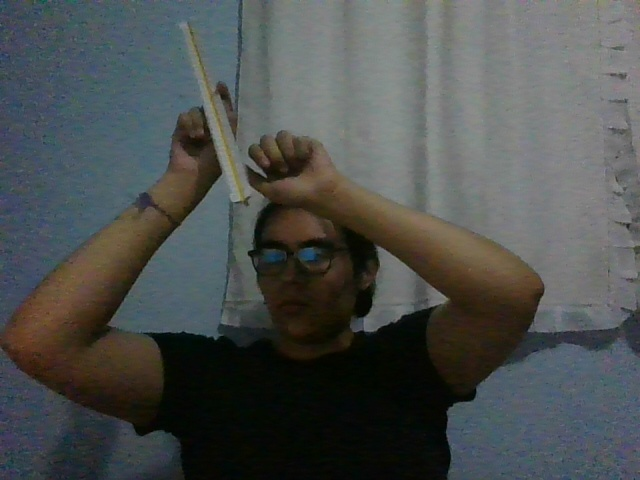regla: (178, 21, 253, 207)
